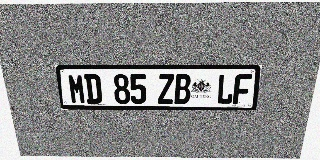5: (130, 74, 147, 104)
8: (113, 74, 130, 104)
B: (174, 74, 191, 104)
D: (84, 74, 102, 104)
F: (232, 74, 252, 104)
L: (216, 74, 235, 104)
M: (67, 74, 86, 104)
Z: (158, 74, 174, 104)
